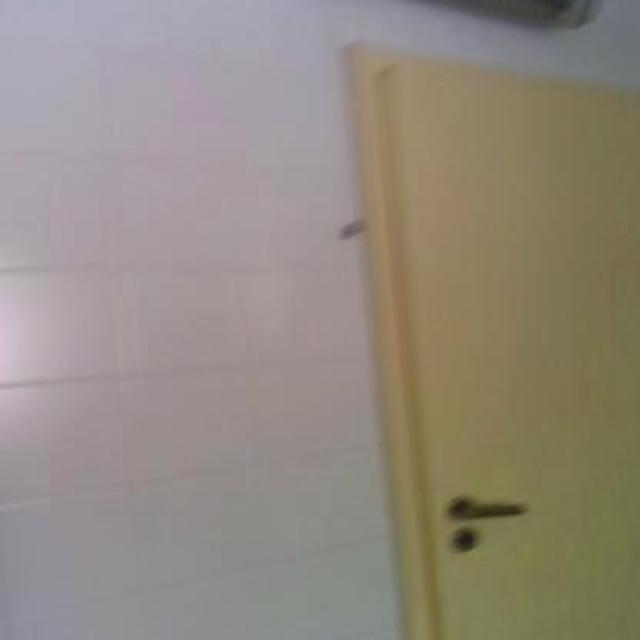door: (344, 40, 638, 638)
